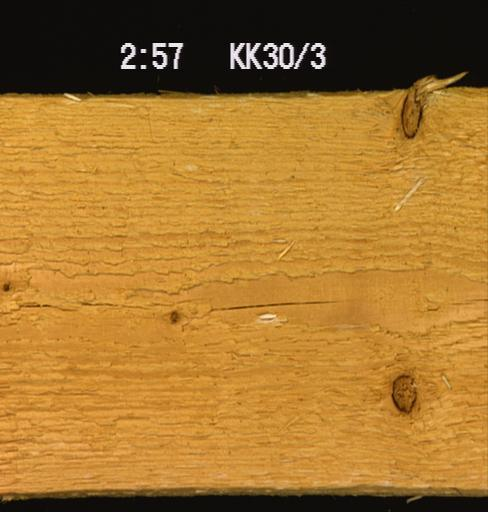dry_knot: (387, 372, 419, 415)
edge_knot: (396, 86, 427, 141)
small_knot: (165, 305, 183, 327), (0, 276, 14, 295)
split: (0, 291, 168, 321), (191, 288, 347, 320)
wave: (60, 462, 487, 499)
